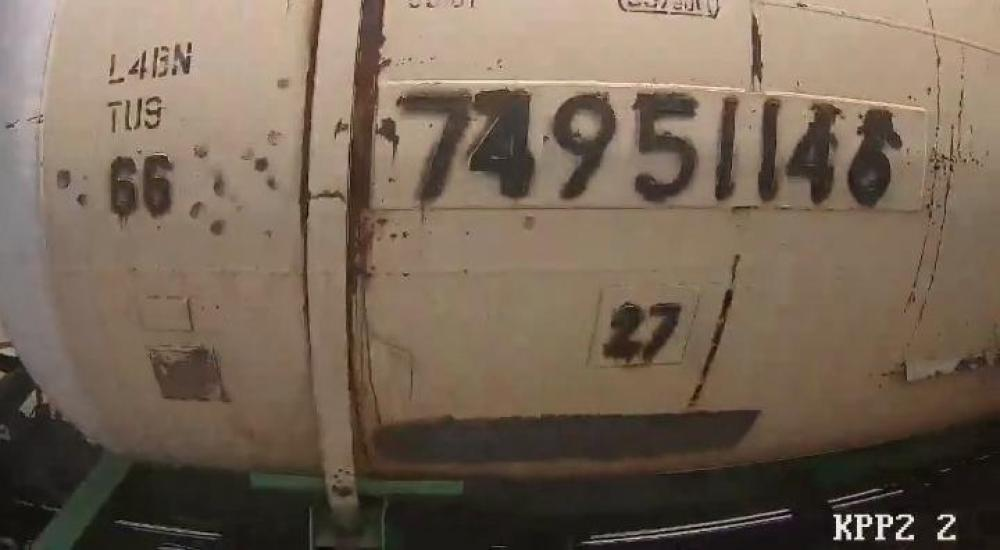Wagon-number: (379, 84, 903, 211)
